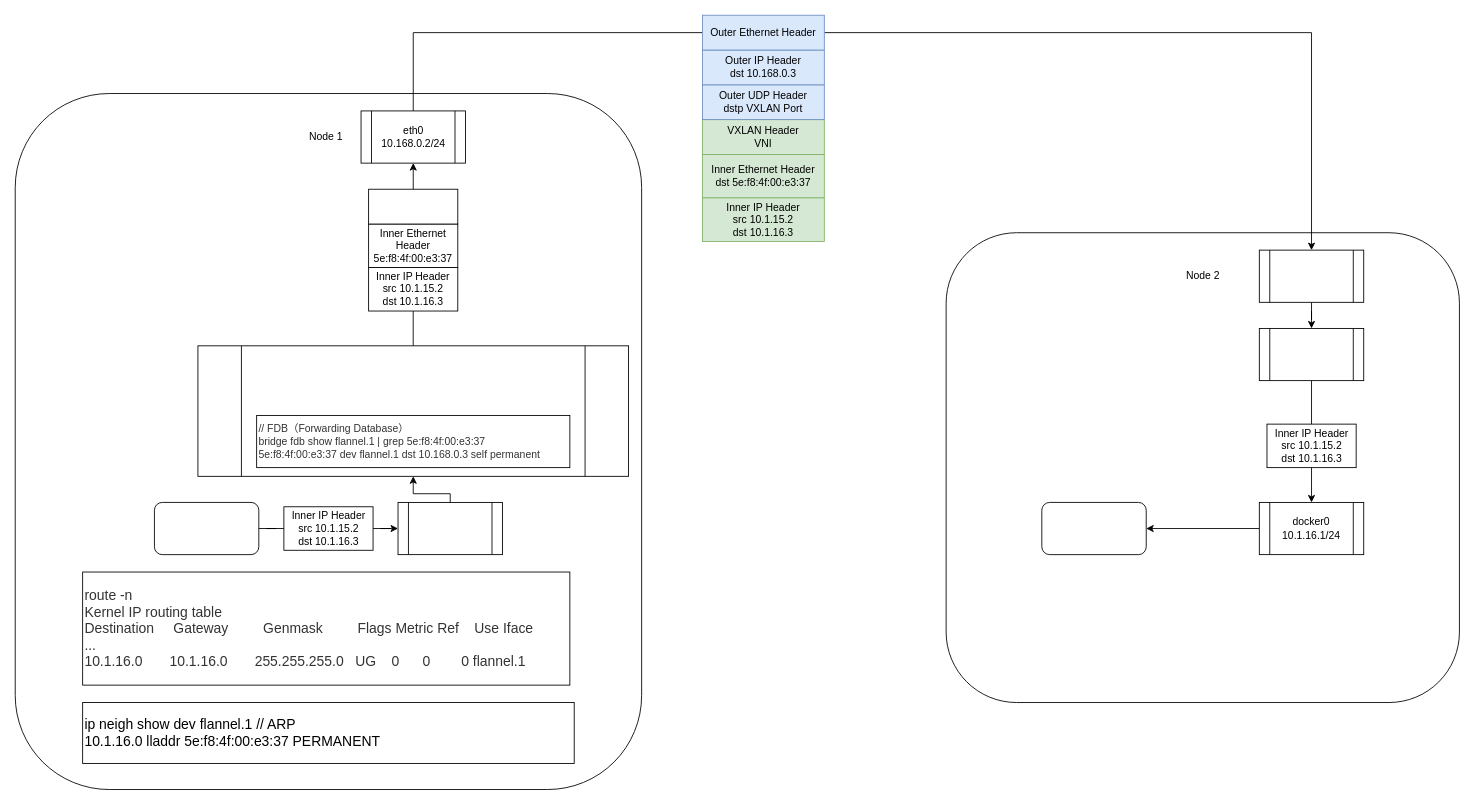
Image size: 1475x805. Some labels were removed from this diagram. The shapes that lost their labels are listed below. From the top down, each one's box as (x1, y1, x2, y2) in pixels, then its label:
(368, 188, 458, 224): VXLAN Header
(1258, 249, 1364, 302): eth0 10.168.0.3/24
(1258, 328, 1364, 381): VTEP flannel.1 10.1.16.0/32
(197, 345, 629, 476): VTEP “网桥” flannel.1 10.1.15.0/32
(154, 502, 259, 555): container-1 10.1.15.2
(397, 502, 502, 555): docker0 10.1.15.1/24
(1041, 502, 1146, 555): container-2 10.1.16.3
